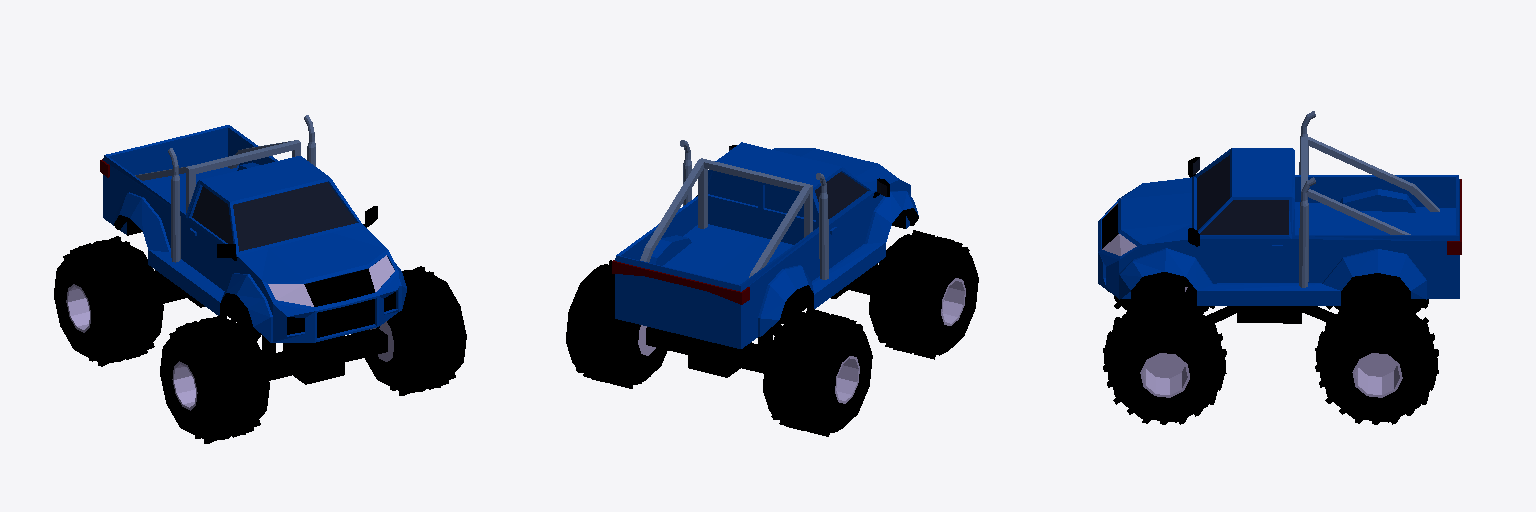
File: monster_truck.obj
3 renders of one model, left to right at view 1: azimuth 30°, elevation 25°; view 2: azimuth 150°, elevation 25°; view 3: azimuth 270°, elevation 25°, orthographic.
Visible parts, largest first — view 1: Monster_Truck; view 2: Monster_Truck; view 3: Monster_Truck.
Boxes of the visible parts, x1=… form: Monster_Truck: x1=54, y1=115, x2=466, y2=443; Monster_Truck: x1=566, y1=140, x2=978, y2=436; Monster_Truck: x1=1098, y1=111, x2=1461, y2=424.
Size of the model in its own units: 4.47 by 3.73 by 5.49.